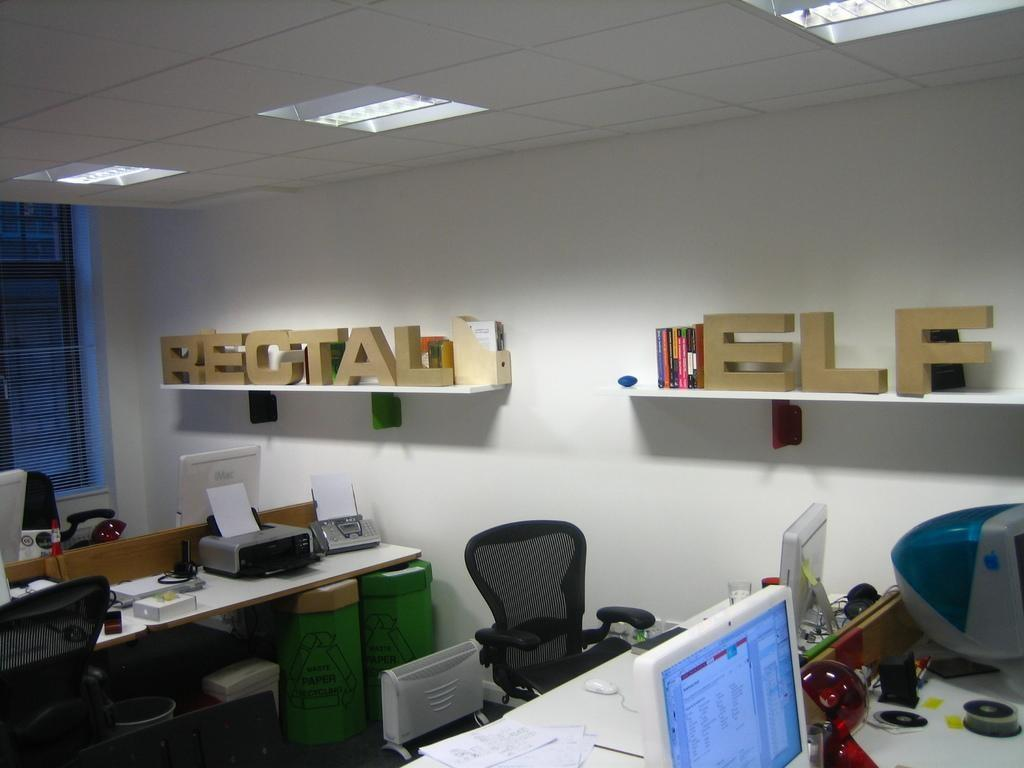AIO PC-Monitor-TV: (633, 582, 810, 767), (780, 502, 837, 646)
Kursi: (464, 519, 656, 702)
Printer: (198, 481, 323, 579)
